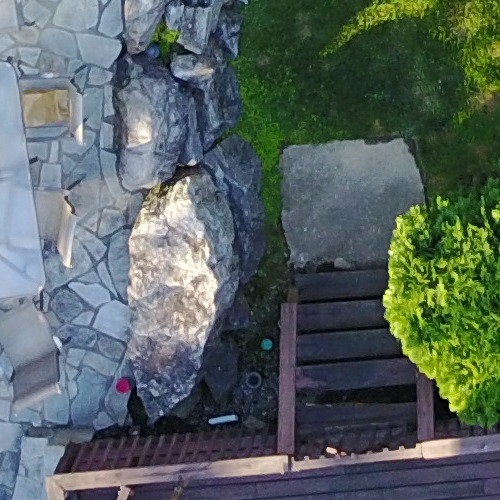container: (238, 370, 265, 398), (109, 373, 134, 400), (258, 336, 277, 354)
no larvae: (236, 368, 263, 396), (107, 371, 132, 398), (256, 334, 275, 352)
